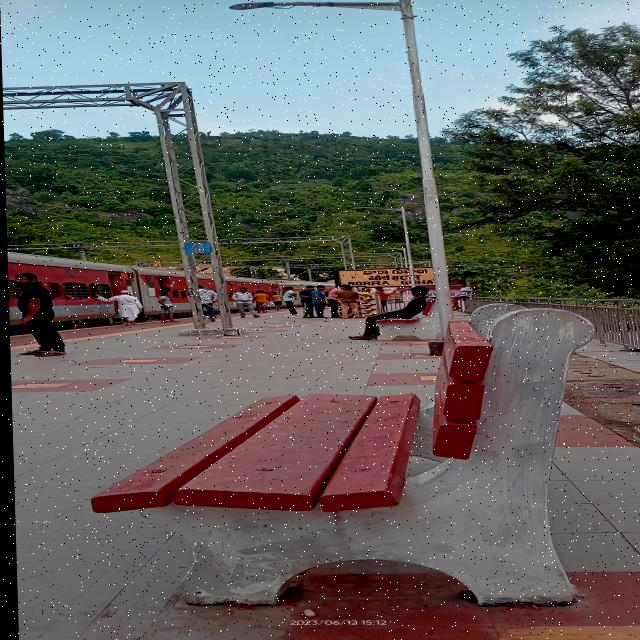train: (6, 246, 286, 341)
